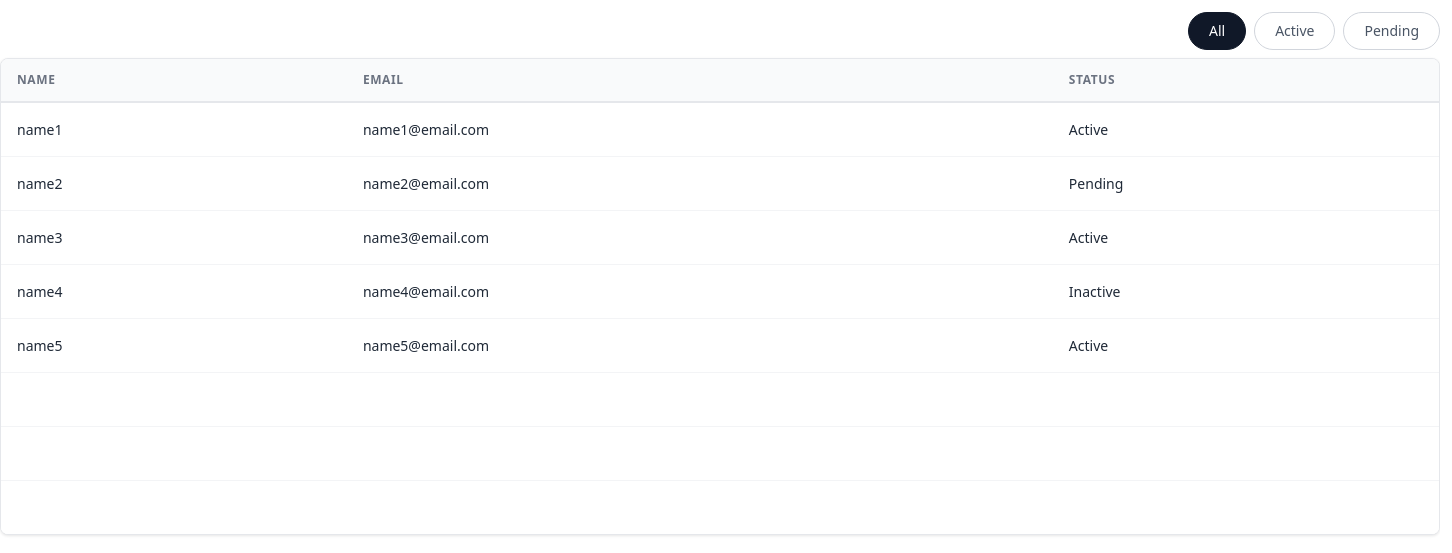
Scenario: Table Admin Component Tests › 24. checkbox tabs: clicking all resets selection
# select Active
Click the button "Active": coordinates (1295, 31) [1254,12,1335,50]
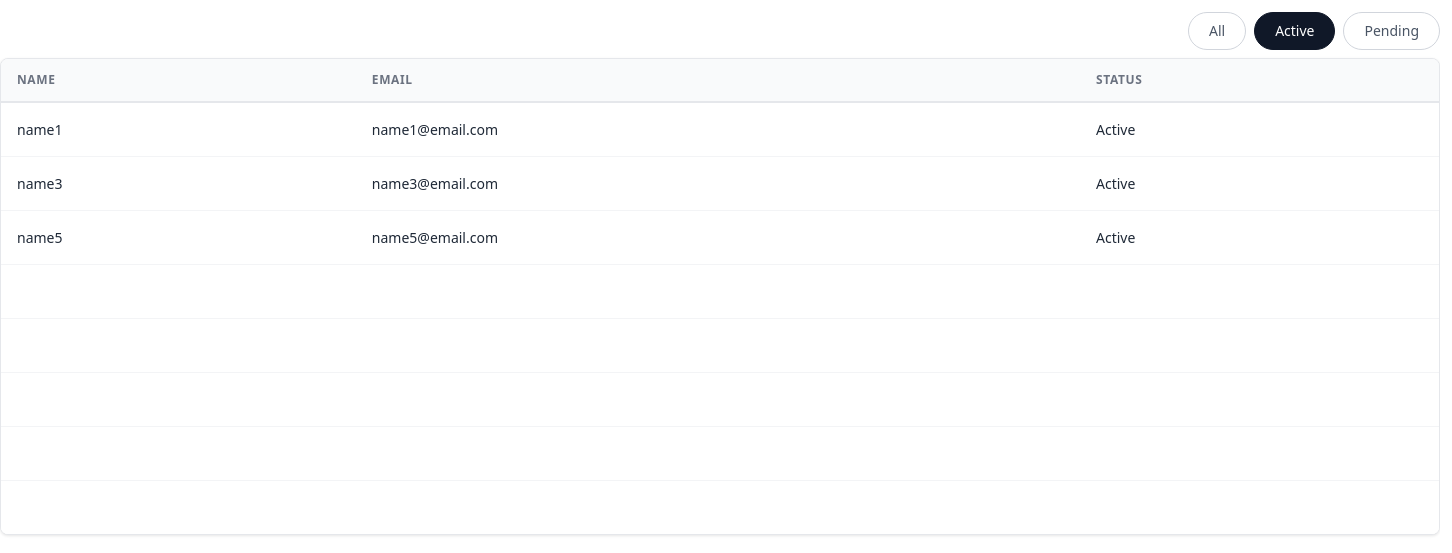
# click again to reset
Click the button "All": coordinates (1217, 31) [1188,12,1246,50]
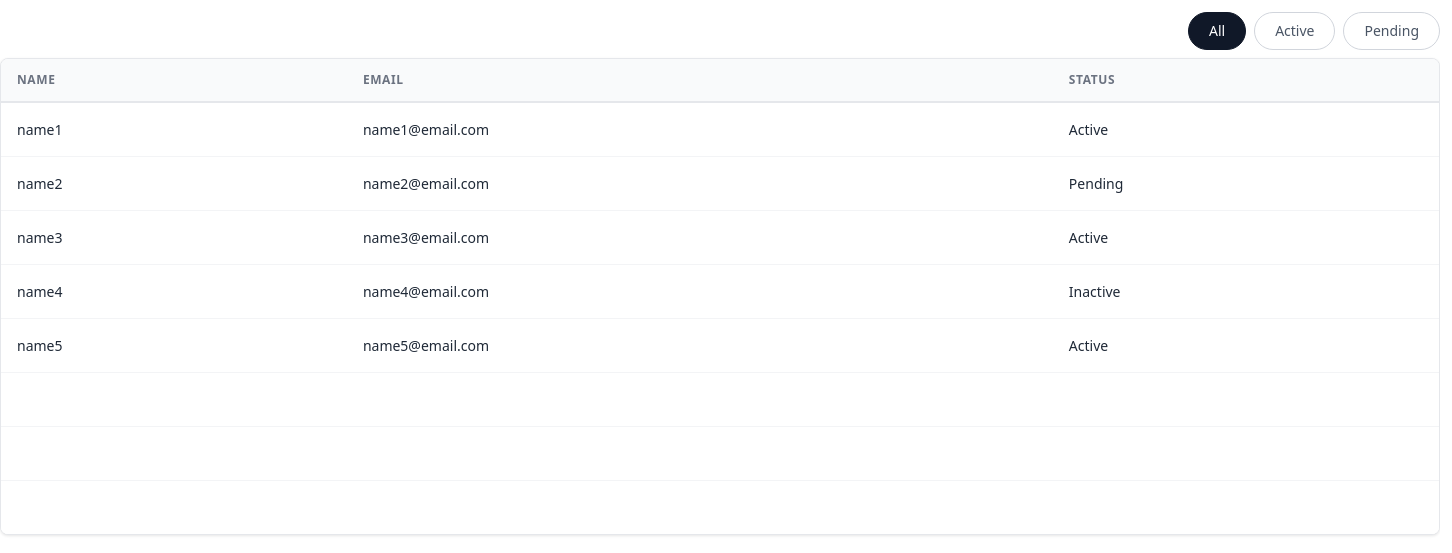
Expected: the text "name1" is shown, [1,102,347,156]
Result: the text "name2" is shown at [1,156,347,210]
